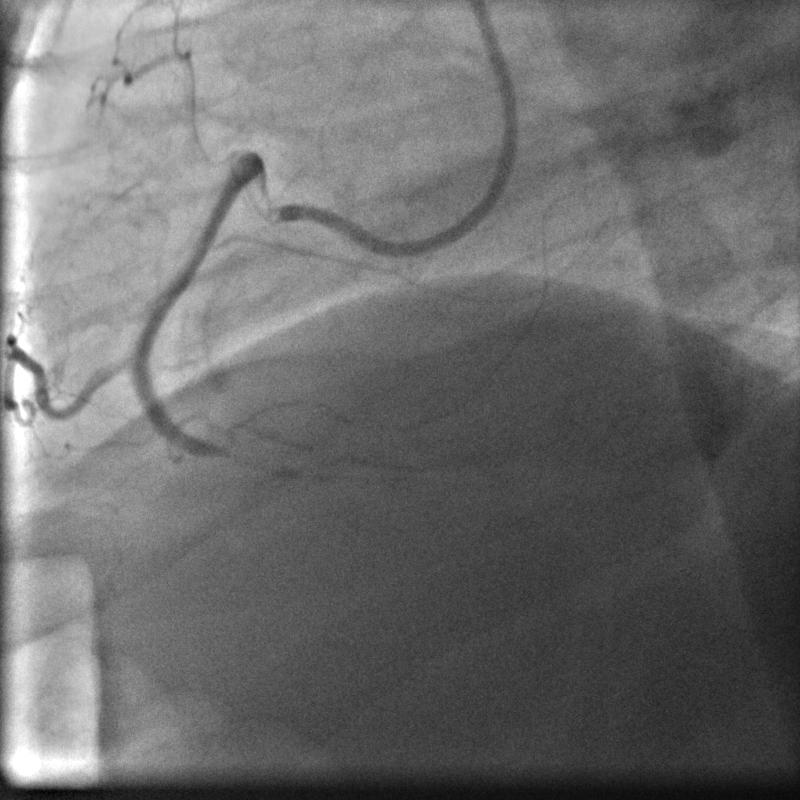Stenosis: (197, 431, 255, 461)
